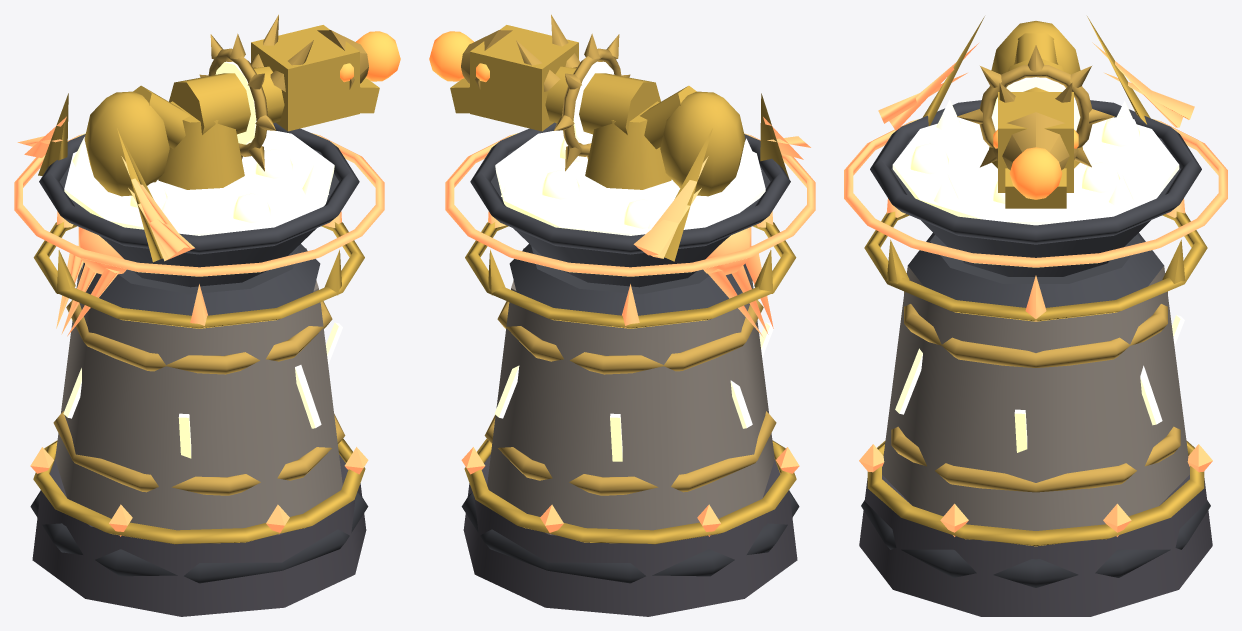
The model's file is tower_flame_sunfire_ultimate.glb.
The picture shows the model from 3 angles, left to right: view 1: azimuth 30°, elevation 25°; view 2: azimuth 150°, elevation 25°; view 3: azimuth 270°, elevation 25°; orthographic projection. The views are drawn at different scales.
Visible parts, largest first — view 1: body, base, coals, brazier_lip, dragon_head, brazier_foot, gas_tank, ult_ring, ult_phoenix, ult_halo, ult_crown_band, soot_ring (+15 smaller); view 2: body, base, coals, brazier_lip, dragon_head, brazier_foot, gas_tank, ult_ring, ult_halo, ult_phoenix, ult_crown_band, soot_ring (+16 smaller); view 3: body, base, coals, brazier_lip, brazier_foot, ult_halo, ult_ring, ult_crown_band, soot_ring, body_band_0.3, body_band_0.15, brazier_bowl (+16 smaller).
Boxes of the visible parts, x1,y1,x2,y2 form: body: (55,248,342,530); base: (32,454,366,616); coals: (64,130,334,235); brazier_lip: (39,122,359,254); dragon_head: (251,25,359,131); brazier_foot: (80,244,320,315); gas_tank: (84,91,169,196); ult_ring: (33,438,365,544); ult_phoenix: (17,93,194,336); ult_halo: (14,133,384,276); ult_crown_band: (33,222,364,328); soot_ring: (30,491,368,583); body: (487,248,774,530); base: (463,454,797,616); coals: (495,130,765,235); brazier_lip: (470,122,790,254); dragon_head: (470,25,578,131); brazier_foot: (509,244,751,315); gas_tank: (660,91,745,196); ult_ring: (464,438,796,544); ult_halo: (445,133,815,276); ult_phoenix: (633,93,810,336); ult_crown_band: (465,222,796,328); soot_ring: (461,491,799,583); body: (882,266,1189,530); base: (859,475,1212,616); coals: (892,117,1179,225); brazier_lip: (870,100,1201,244); brazier_foot: (908,233,1163,307); ult_halo: (844,119,1227,267); ult_ring: (867,440,1204,546); ult_crown_band: (864,211,1207,321); soot_ring: (861,500,1210,587); body_band_0.3: (904,291,1167,367); body_band_0.15: (891,426,1180,492); brazier_bowl: (891,137,1180,276).
Size of the model in its own units: 0.482 by 0.64 by 0.4274.
